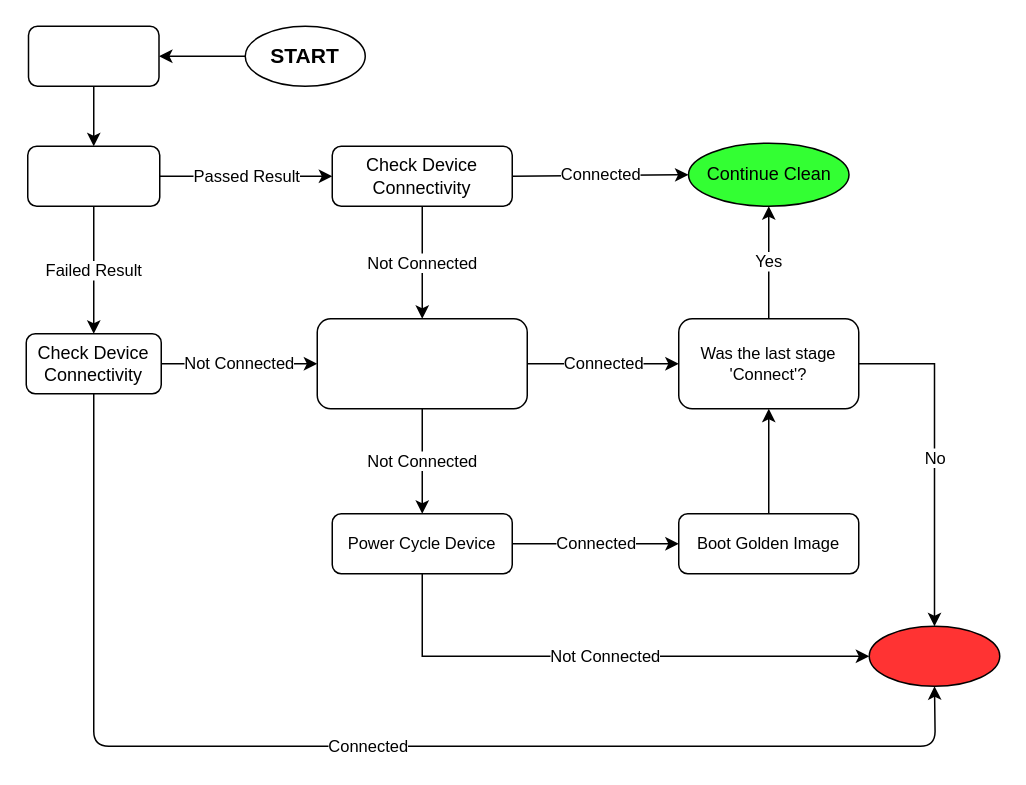
Some shapes in this 1026 by 785 pixel diagram are drawn without their labels. Each missing label, with the box of its shape:
Clean Stage Completed: (26, 145, 160, 206)
Clear Lines and Check Device Connectivity (If Applicable): (316, 317, 527, 409)
Execute Stage: (27, 25, 159, 86)
Fail Clean: (868, 625, 1000, 686)
